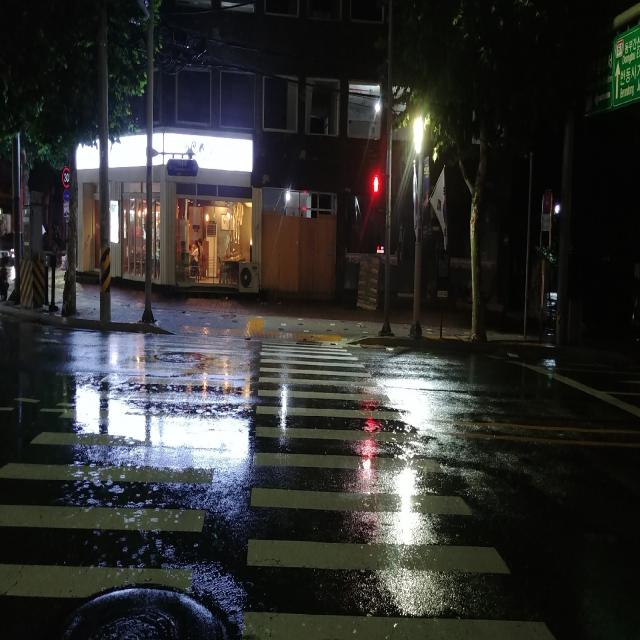빨간불: (369, 177, 382, 225)
횡단보도: (0, 336, 553, 639)
